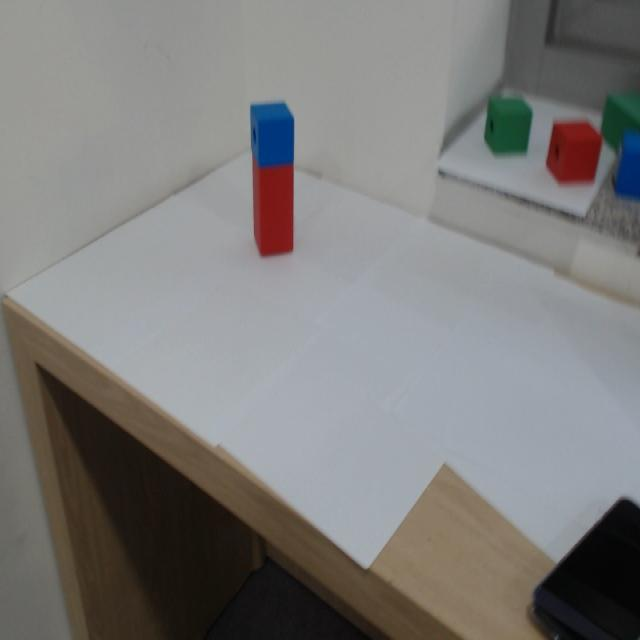cube: (235, 76, 301, 167)
